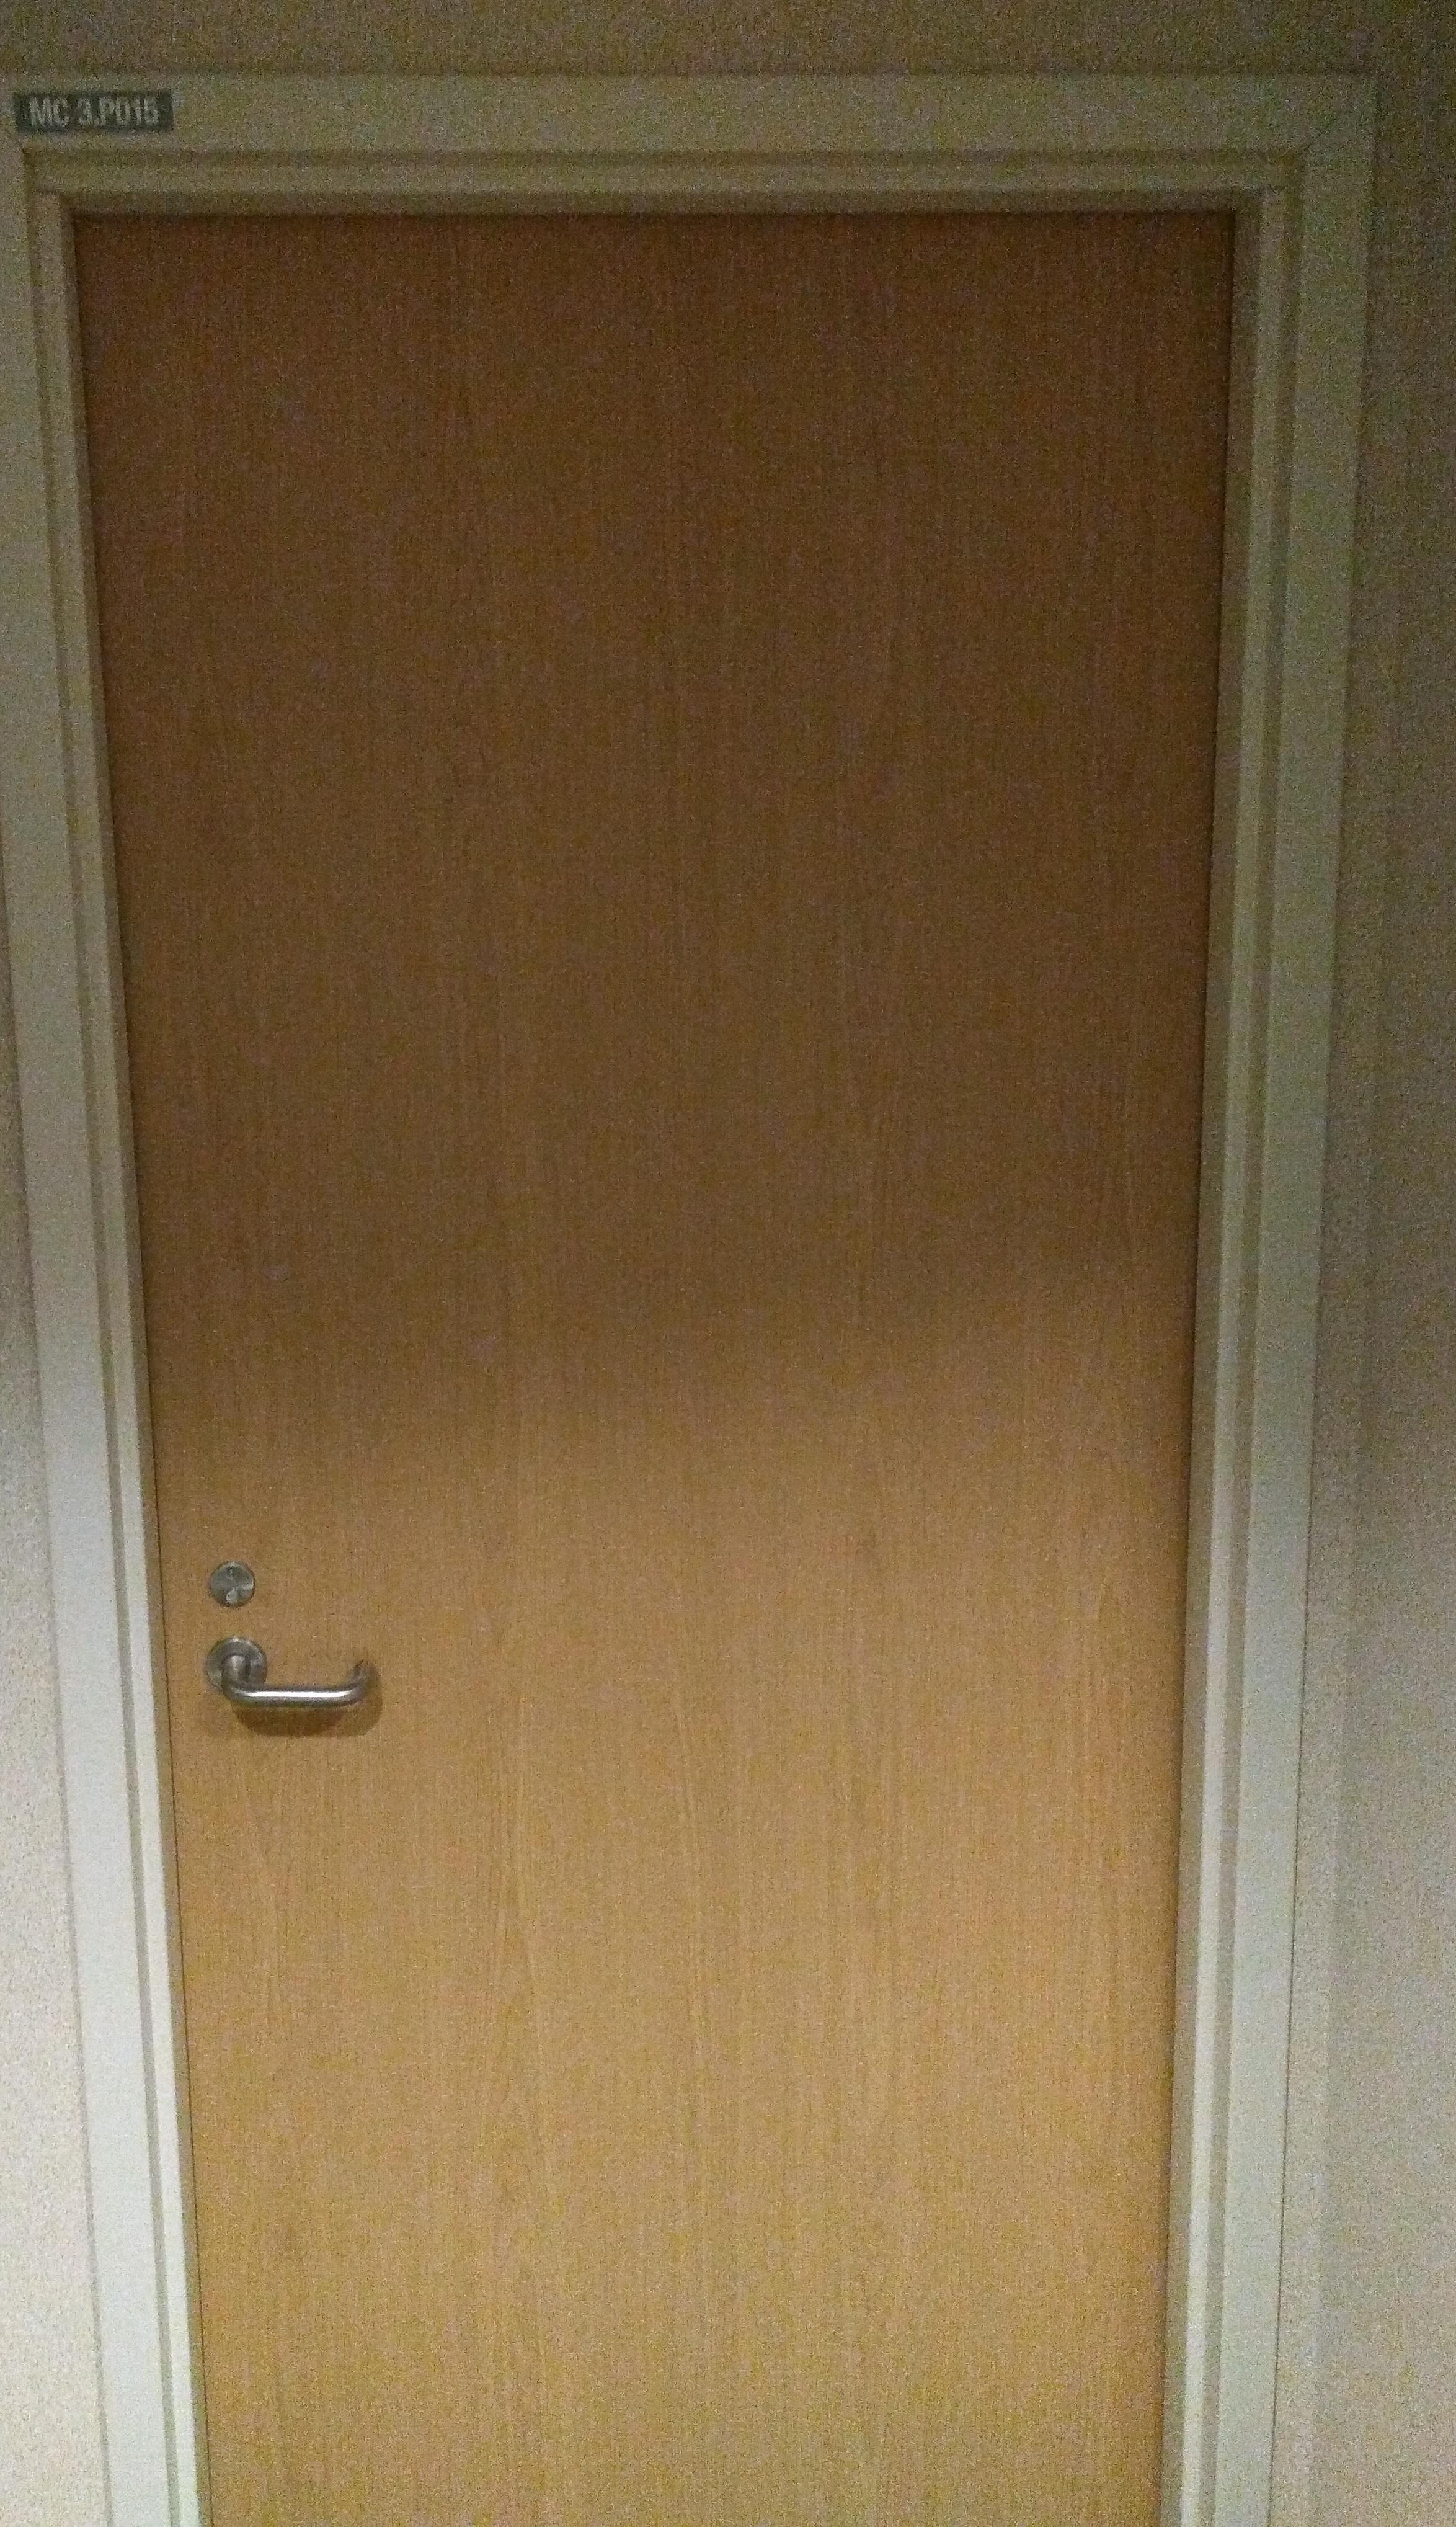door: (2, 73, 1380, 2524)
